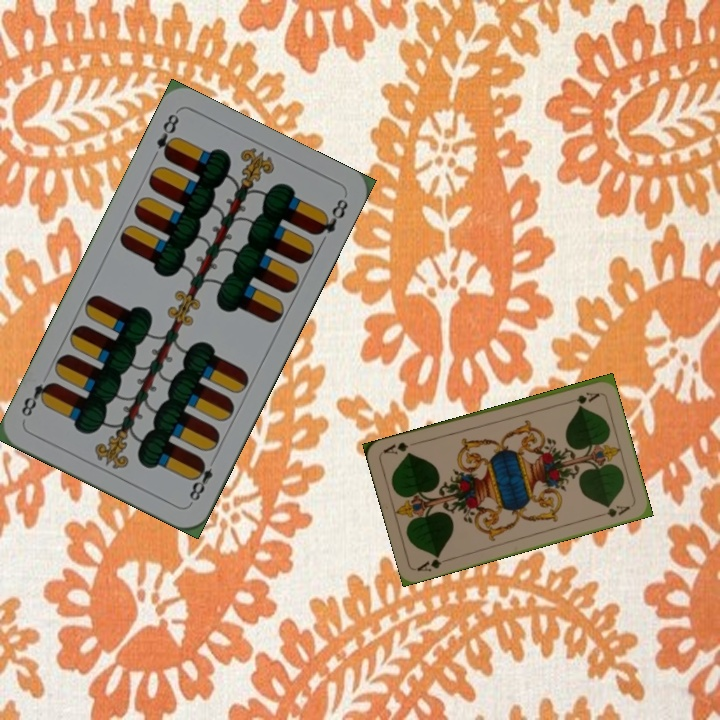E8: (152, 109, 182, 163), (185, 455, 216, 507)
GA: (413, 551, 453, 574), (562, 388, 602, 407)
